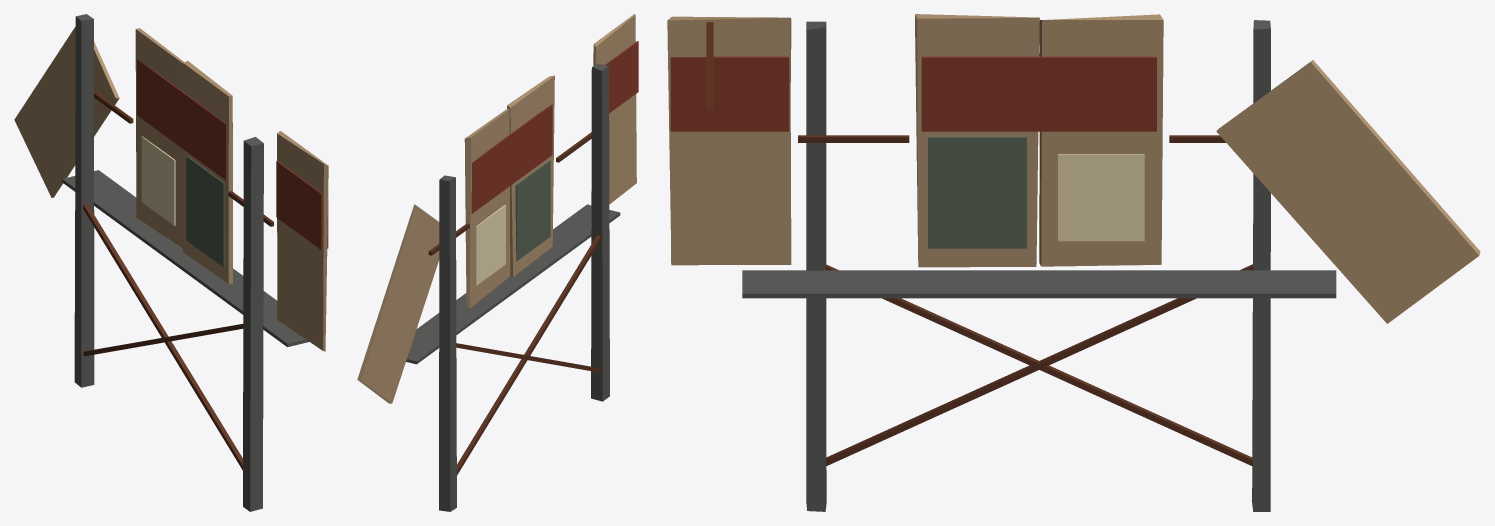
Rendered from billboard.glb.
The picture shows the model from 3 angles, left to right: view 1: azimuth 30°, elevation 25°; view 2: azimuth 150°, elevation 25°; view 3: azimuth 270°, elevation 25°; orthographic projection. The views are drawn at different scales.
Parts seen in each view (by area): view 1: billboard; view 2: billboard; view 3: billboard.
Part boxes in pixels (x1,y1,x2,y2): billboard: (14,14,328,511); billboard: (357,14,638,511); billboard: (667,14,1480,511).
Size of the model in its own units: 1.22 by 8.96 by 13.14.
